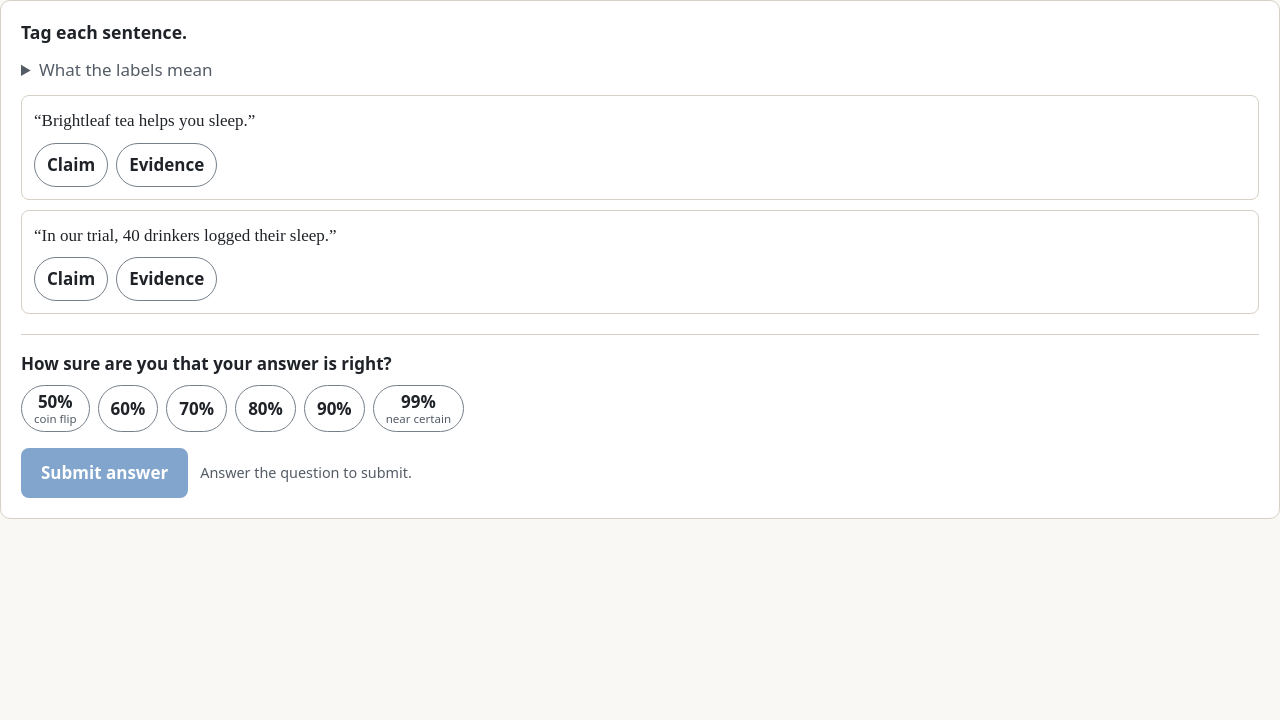
Test case: TagSpans › tags every segment and gives per-segment feedback
The image size is (1280, 720).
Click the radio button labelled "Claim" below "Brightleaf tea helps you sleep.": click(71, 165) [34,143,108,187]
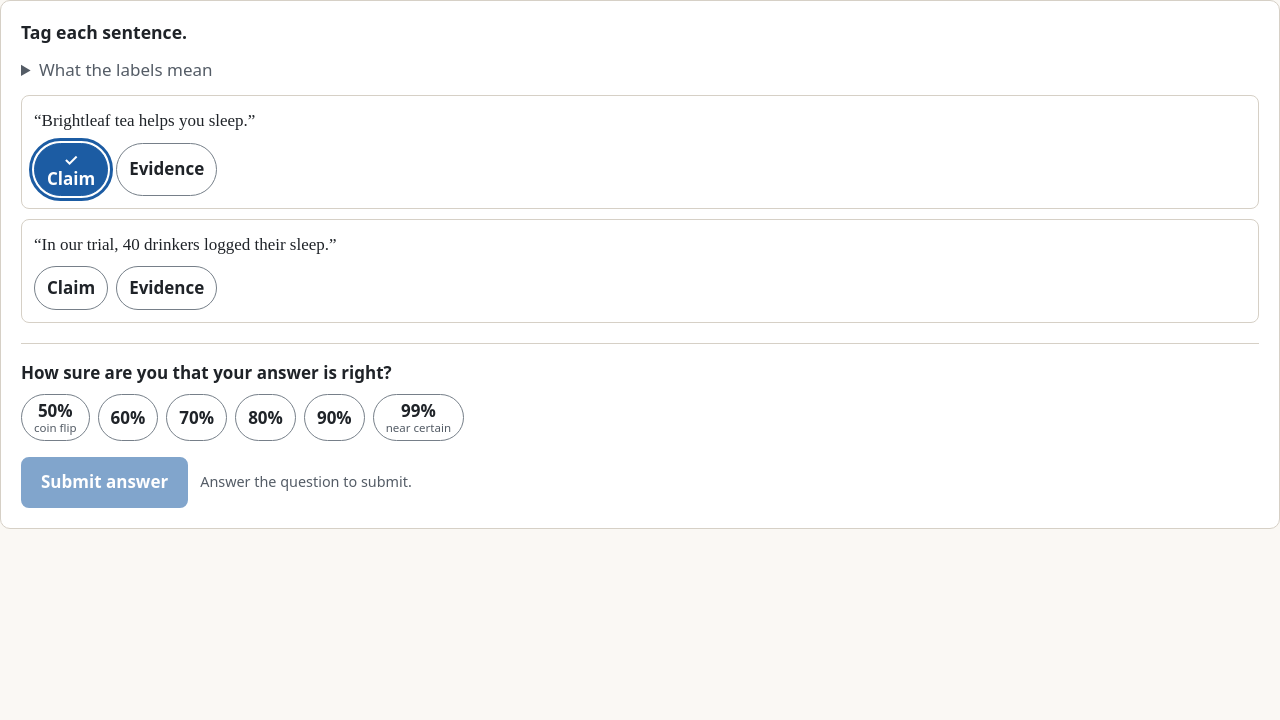
Check: the button "Submit answer" is disabled, box [21,457,188,508]
Click the 2nd radio button labelled "Evidence": click(167, 288) [116,266,217,310]
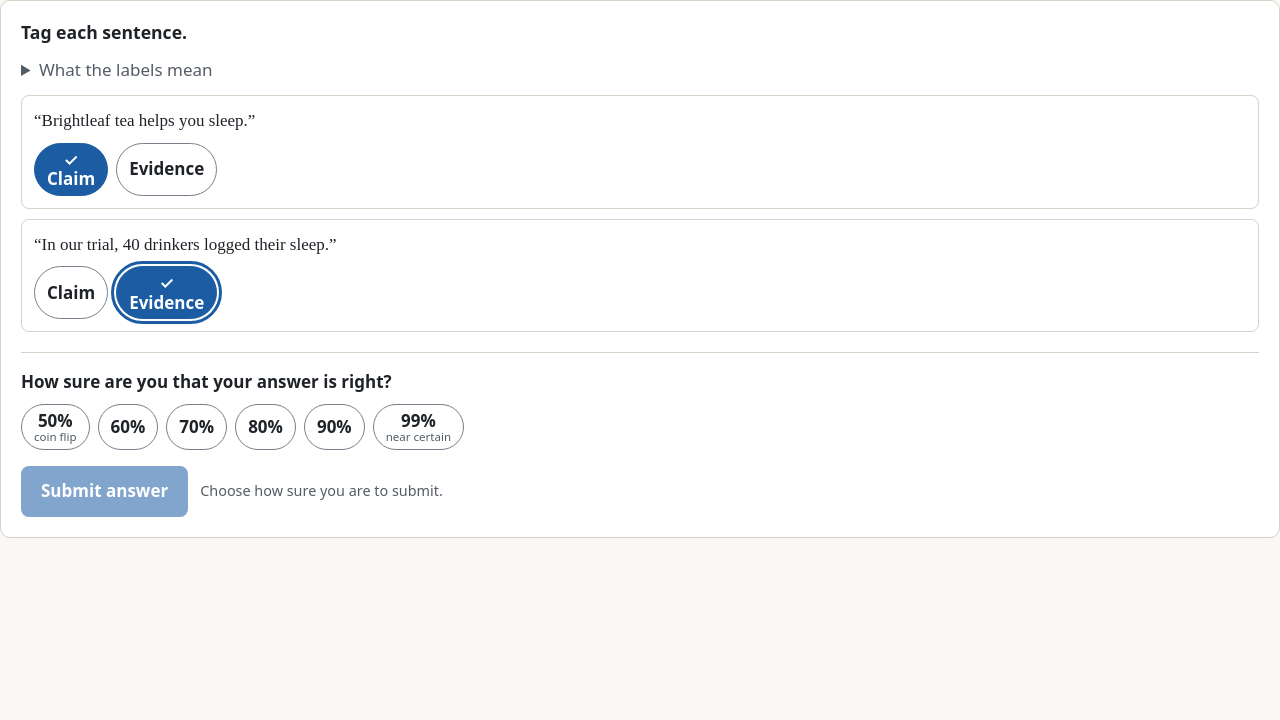
Click the radio button labelled "80%": click(266, 427) [235,404,296,450]
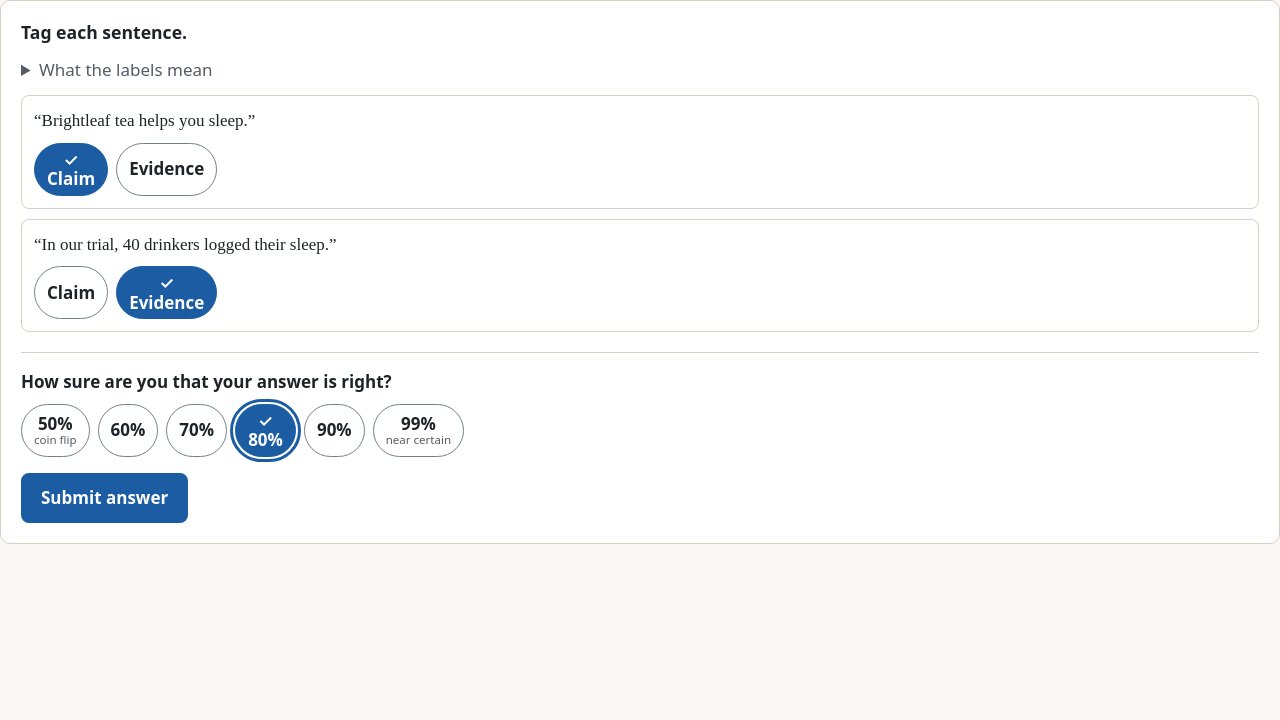
Click the button "Submit answer": click(105, 498) [21,473,188,523]
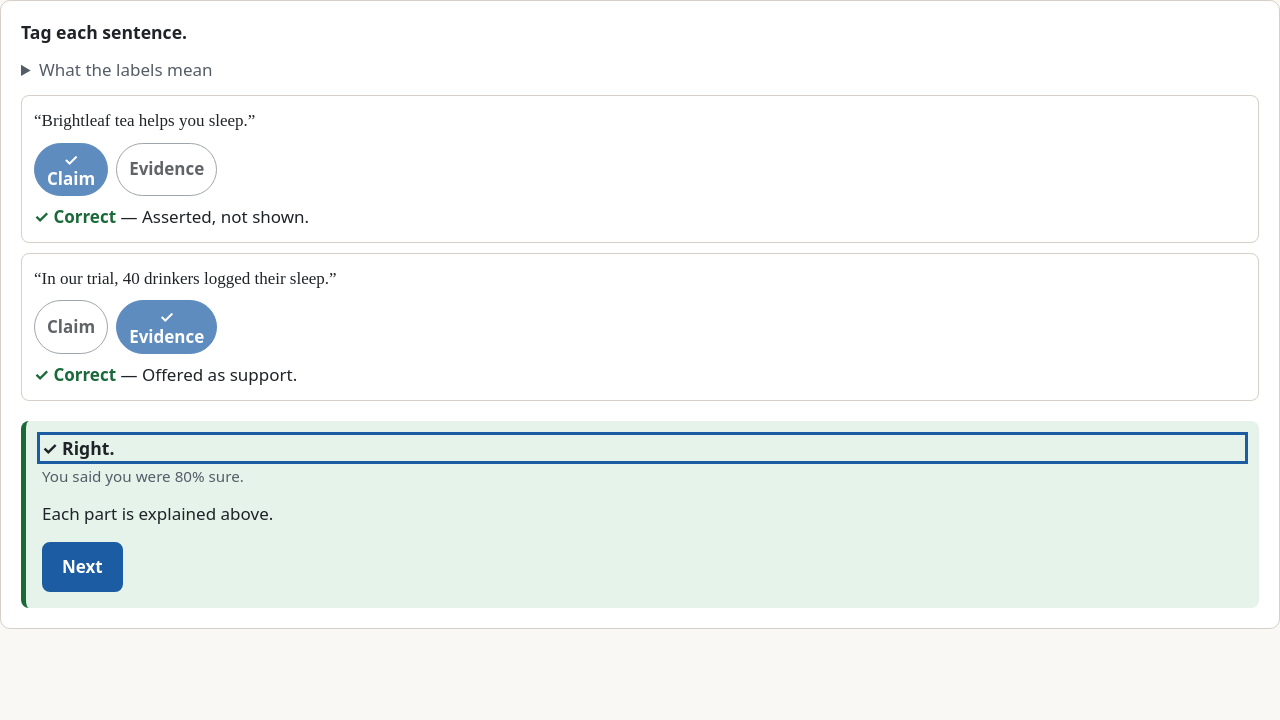
Check: the heading "✓ Right." is shown, box [42,436,114,460]
Check: the text "✓ Correct — Offered as support." is shown, box [34,362,297,386]
